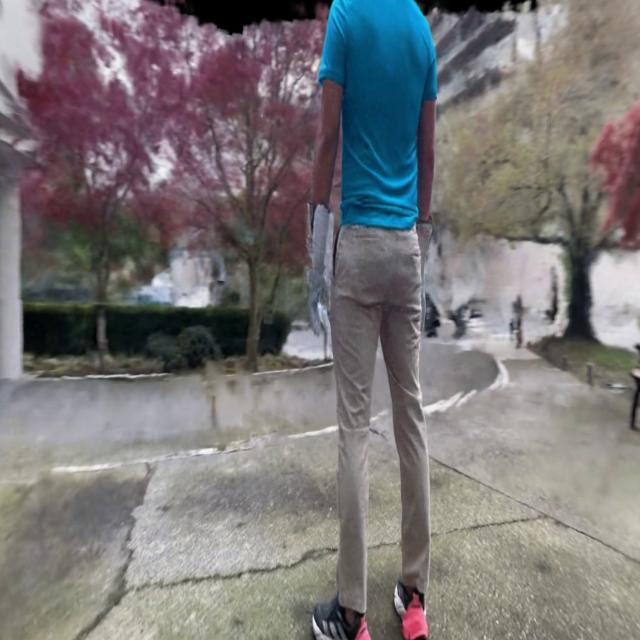gloves: (301, 190, 332, 354), (418, 209, 434, 334)
